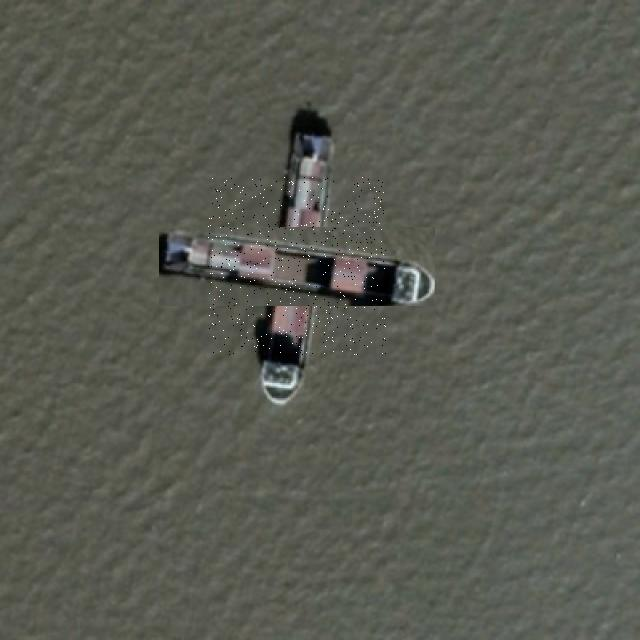boat: (208, 177, 386, 355)
